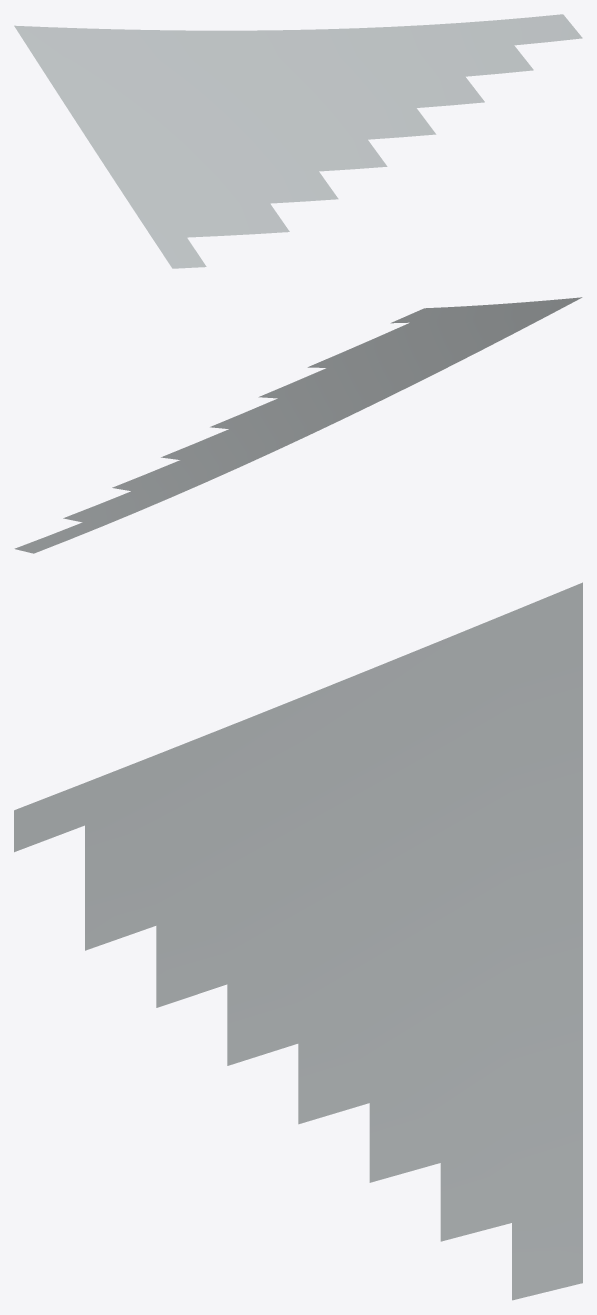
The model's file is alpine-10-9.glb.
The picture shows the model from 3 angles, top to bottom: view 1: azimuth 30°, elevation 25°; view 2: azimuth 210°, elevation 25°; view 3: azimuth 270°, elevation 25°; orthographic projection. The views are drawn at different scales.
Visible parts, largest first — view 1: alpine-10-9; view 2: alpine-10-9; view 3: alpine-10-9.
Part boxes in pixels (box(x1,y1,x2,y2)): alpine-10-9: box(14, 14, 582, 268); alpine-10-9: box(14, 297, 582, 553); alpine-10-9: box(14, 582, 582, 1300).
Size of the model in its own units: 128 by 30.79 by 64.
1 material, 1 textured.
